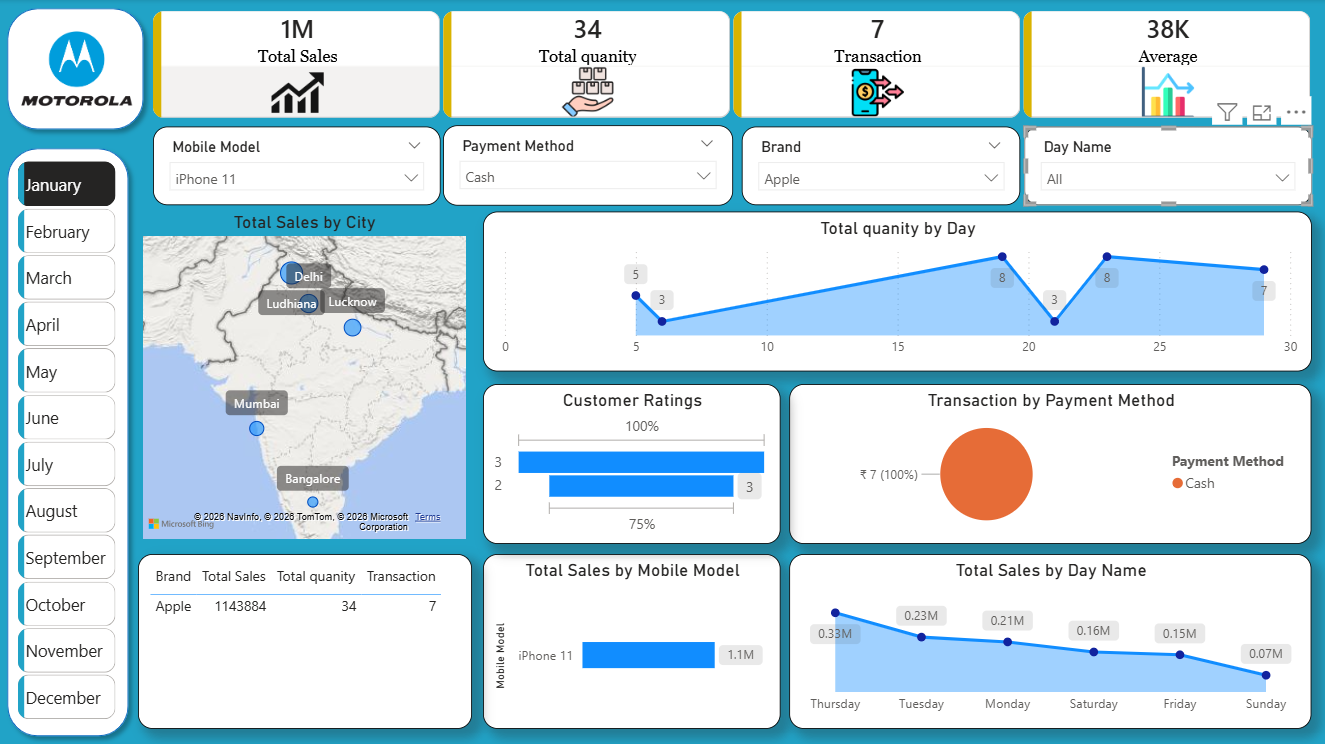

What the dashboard file says about the page in this screenshot:
{"tool":"powerbi","page":{"name":"Page 1","canvas":[1280,720],"ordinal":0},"visuals":[{"type":"shape","box":[0,0,149.4,134.9],"z":0},{"type":"image","box":[7.2,30.1,134.9,74.7],"z":1000},{"type":"shape","box":[0,134.9,134.9,585.5],"z":2000},{"type":"advancedSlicerVisual","fields":{"Values":["Sales_Data.Date .Variation.Date Hierarchy.Month"]},"box":[14.5,151.8,104.8,553],"z":3000},{"type":"cardVisual","fields":{"Data":["Sales_Data.Total Sales","Sales_Data.Total quanity","Sales_Data.Transaction","Sales_Data.Average"]},"box":[149.6,8.4,1118.4,109.8],"z":4000},{"type":"map","fields":{"Category":["Sales_Data.City"],"Size":["Sales_Data.Total Sales"]},"box":[135.1,205.1,322.1,320.9],"z":5000},{"type":"lineChart","fields":{"Y":["Sales_Data.Total quanity"],"Category":["Sales_Data.Date .Variation.Date Hierarchy.Month","Sales_Data.Date .Variation.Date Hierarchy.Day"]},"box":[468.1,205.1,799.9,154.4],"z":6000},{"type":"clusteredBarChart","fields":{"Category":["Sales_Data.Mobile Model"],"Y":["Sales_Data.Total Sales"]},"box":[468.1,535.7,287.1,168.9],"z":7000},{"type":"pieChart","fields":{"Y":["Sales_Data.Transaction"],"Category":["Sales_Data.Payment Method"]},"box":[763.7,371.6,504.3,154.4],"z":8000},{"type":"funnel","title":" Customer Ratings","fields":{"Category":["Sales_Data.Customer Ratings"],"Y":["CountNonNull(Sales_Data.Customer Ratings)"]},"box":[468.1,371.6,287.1,154.4],"z":9000},{"type":"areaChart","fields":{"Category":["Sales_Data.Day Name"],"Y":["Sales_Data.Total Sales"]},"box":[763.7,535.7,504.3,168.9],"z":10000},{"type":"tableEx","fields":{"Values":["Sales_Data.Brand","Sales_Data.Total Sales","Sales_Data.Total quanity","Sales_Data.Transaction"]},"box":[135.1,535.7,322.1,168.9],"z":11000},{"type":"slicer","fields":{"Values":["Sales_Data.Mobile Model"]},"box":[149.6,123.1,277.5,76],"z":12000},{"type":"slicer","fields":{"Values":["Sales_Data.Payment Method"]},"box":[429.5,121.9,279.9,77.2],"z":13000},{"type":"slicer","fields":{"Values":["Sales_Data.Brand"]},"box":[717.8,123.1,269,76],"z":14000},{"type":"slicer","fields":{"Values":["Sales_Data.Day Name"]},"box":[990.5,123.1,277.5,76],"z":15000}]}

Visuals, with their boxes in screenshot pixels (x1, y1, x2, y2), scaled from the page's 1280x720 canvas onto the 1325x744 screenshot:
shape: select_region(0, 0, 155, 139)
image: select_region(7, 31, 147, 108)
shape: select_region(0, 139, 140, 743)
advancedSlicerVisual - Sales_Data.Date .Variation.Date Hierarchy.Month: select_region(15, 157, 123, 728)
cardVisual - Sales_Data.Total Sales x Sales_Data.Total quanity: select_region(155, 9, 1313, 122)
map - Sales_Data.City x Sales_Data.Total Sales: select_region(140, 212, 473, 544)
lineChart - Sales_Data.Total quanity x Sales_Data.Date .Variation.Date Hierarchy.Month: select_region(485, 212, 1313, 371)
clusteredBarChart - Sales_Data.Mobile Model x Sales_Data.Total Sales: select_region(485, 554, 782, 728)
pieChart - Sales_Data.Transaction x Sales_Data.Payment Method: select_region(791, 384, 1313, 544)
" Customer Ratings" funnel: select_region(485, 384, 782, 544)
areaChart - Sales_Data.Day Name x Sales_Data.Total Sales: select_region(791, 554, 1313, 728)
tableEx - Sales_Data.Brand x Sales_Data.Total Sales: select_region(140, 554, 473, 728)
slicer - Sales_Data.Mobile Model: select_region(155, 127, 442, 206)
slicer - Sales_Data.Payment Method: select_region(445, 126, 734, 206)
slicer - Sales_Data.Brand: select_region(743, 127, 1021, 206)
slicer - Sales_Data.Day Name: select_region(1025, 127, 1313, 206)
